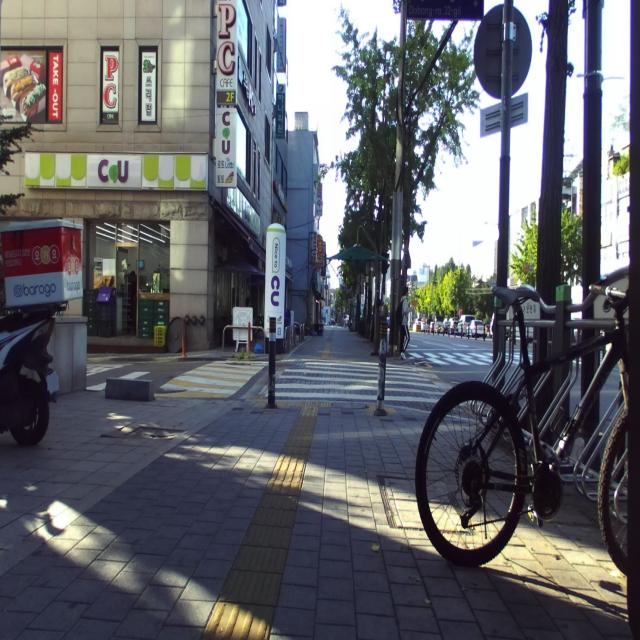횡단보도: (264, 359, 466, 407)
